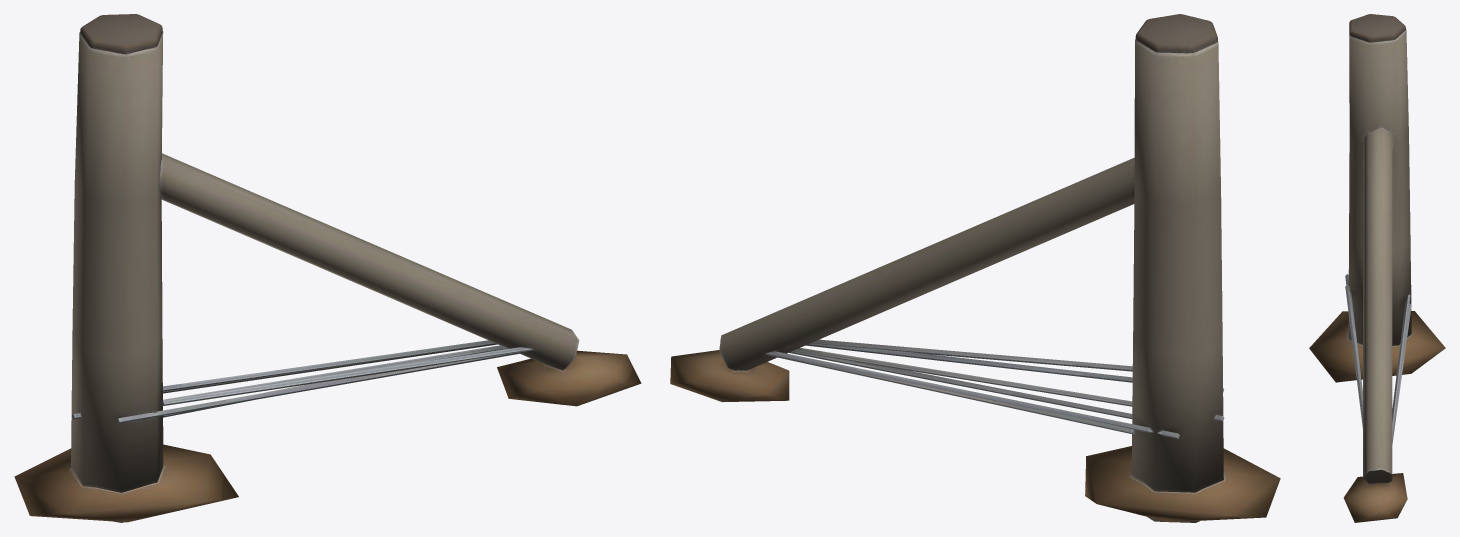
Rendered from fence_strainer.glb.
The picture shows the model from 3 angles, left to right: view 1: azimuth 30°, elevation 25°; view 2: azimuth 150°, elevation 25°; view 3: azimuth 270°, elevation 25°; orthographic projection. The views are drawn at different scales.
Parts seen in each view (by area): view 1: fence_strainer; view 2: fence_strainer; view 3: fence_strainer.
Boxes of the visible parts, left/top/right/bottom form: fence_strainer: left=14, top=14, right=641, bottom=522; fence_strainer: left=670, top=14, right=1280, bottom=522; fence_strainer: left=1309, top=14, right=1445, bottom=522.
Bounding box in the file's own units: 1.87 × 1.44 × 0.5317.
1 material, 1 textured.
